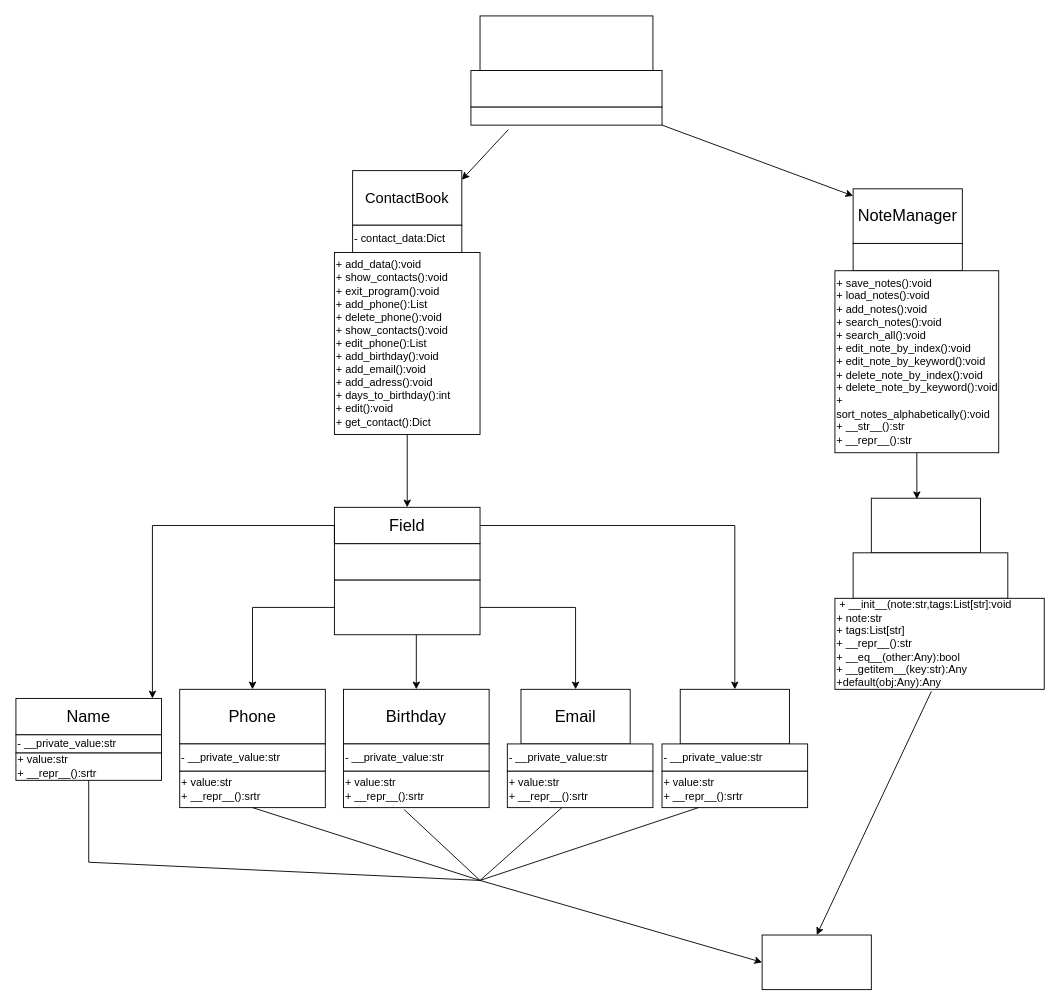
This 1060x1006 diagram has some shape labels left out. Here are the shapes that lost their labels. From the top down, the centre of each, then its label:
At (566,43): "PersonalAsisitant".
At (566,88): "- contact_data: List - file_name: str".
At (566,115): "+ start_bot(): void".
At (907,257): "- notes:Dict".
At (925,525): "Note".
At (407,561): "- value:Any -__private_value:Any".
At (930,575): "- note:str - tags: List[str]".
At (407,607): "+ __init__(value:Any):void + value:Any +__repr__():str".
At (734,716): "Adress".
At (816,962): "User".
